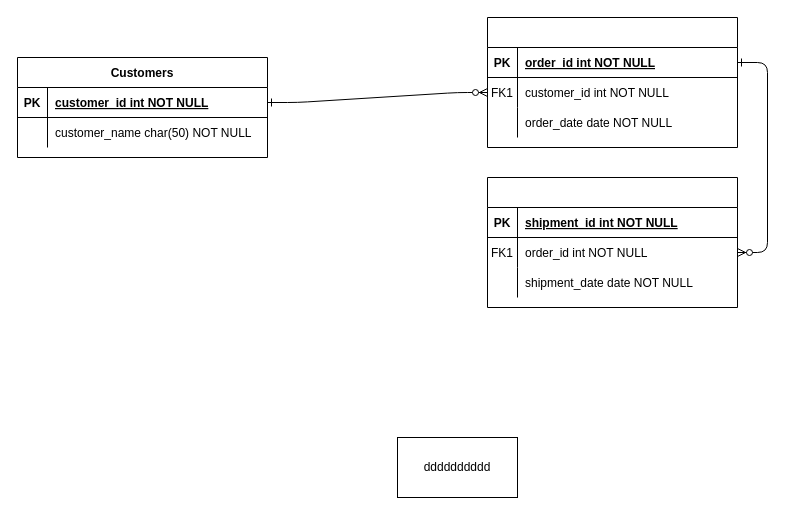
This 794x515 diagram has some shape labels left out. Each missing label, with the box of its shape:
Orders: (486, 16, 738, 148)
Shipments: (486, 176, 738, 308)
